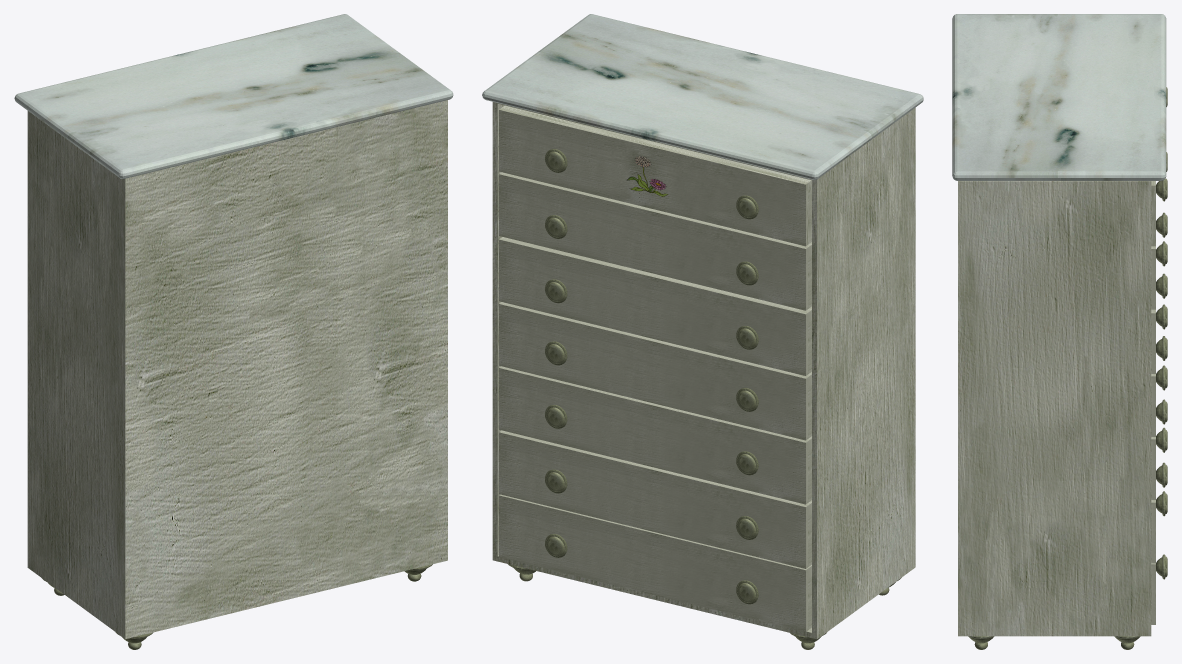
Rendered from dresser1.fbx.
3 views of the same model, side by side, from view 1: azimuth 30°, elevation 25°; view 2: azimuth 150°, elevation 25°; view 3: azimuth 270°, elevation 25° (orthographic).
Parts seen in each view (by area): view 1: SETTIMINO; view 2: SETTIMINO; view 3: SETTIMINO.
Boxes of the visible parts, left/top/right/bottom form: SETTIMINO: left=14, top=14, right=453, bottom=649; SETTIMINO: left=482, top=14, right=923, bottom=649; SETTIMINO: left=952, top=14, right=1167, bottom=649.
Size of the model in its own units: 1.14 by 0.6436 by 1.61.
Materials: 5 (5 with a texture image).
